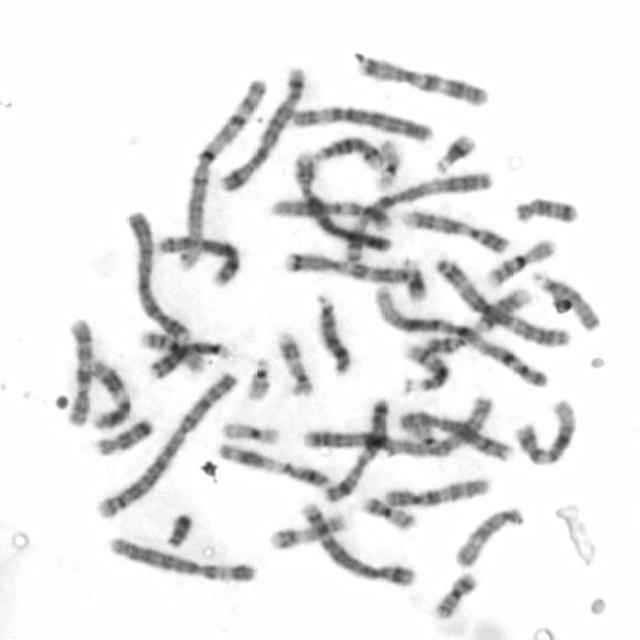A1: (371, 281, 551, 391), (177, 80, 267, 276)
A2: (93, 374, 238, 526), (301, 394, 494, 459)
A3: (341, 168, 498, 263), (436, 254, 576, 351)
B4: (290, 145, 395, 248), (121, 207, 195, 343)
B5: (218, 65, 307, 194), (299, 501, 418, 586)
C10: (60, 314, 93, 428), (377, 476, 487, 510)
C11: (214, 440, 330, 490), (82, 357, 131, 432)
C12: (509, 396, 580, 468), (270, 197, 393, 233)
C6: (102, 536, 255, 584), (288, 106, 434, 147)
C7: (356, 54, 494, 109), (281, 250, 426, 293)
C8: (396, 409, 514, 465), (158, 236, 242, 290)
C9: (424, 285, 535, 356), (398, 206, 510, 258)
D13: (146, 338, 228, 381), (312, 293, 354, 375)
D14: (306, 132, 385, 170), (398, 342, 454, 395)
D15: (451, 506, 526, 568), (533, 271, 605, 331)
E16: (481, 238, 557, 288), (138, 330, 210, 377)
E17: (262, 506, 354, 556), (272, 329, 316, 398)
E18: (91, 414, 157, 459), (509, 194, 580, 228)
F19: (218, 418, 281, 450), (372, 138, 401, 194)
F20: (431, 569, 480, 622), (357, 495, 418, 533)
G21: (429, 131, 477, 175), (396, 256, 428, 303)
G22: (243, 354, 272, 403), (408, 410, 440, 450)
X: (319, 396, 393, 504)
Y: (163, 512, 195, 551)
